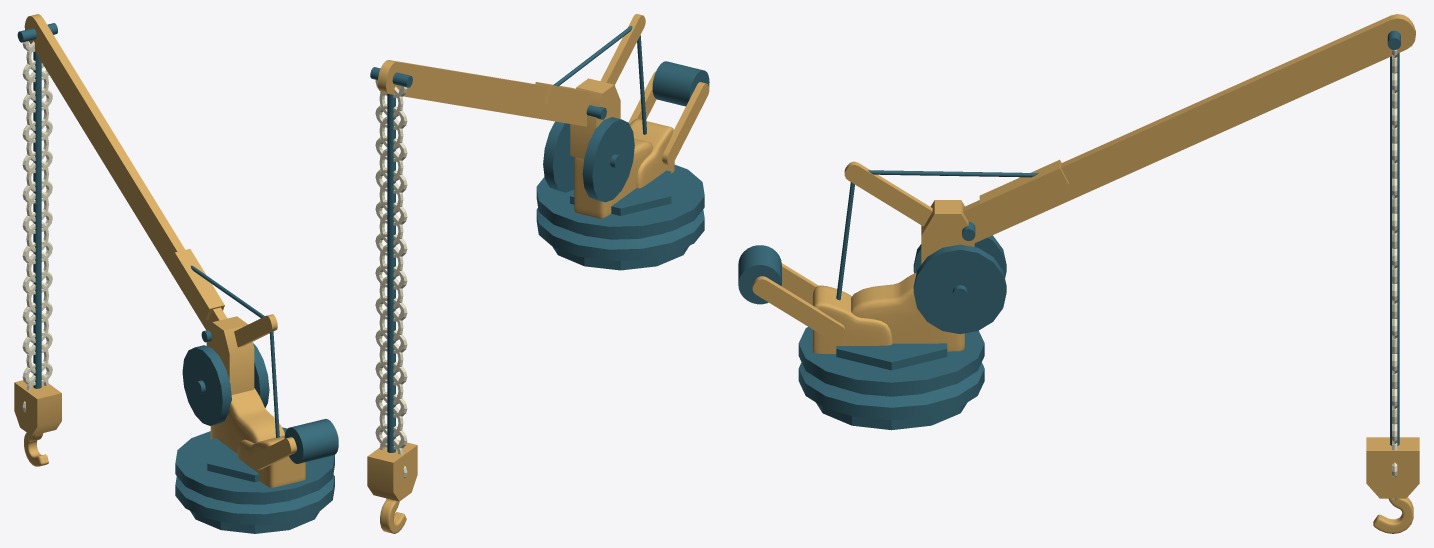
Rendered from deck-crane.glb.
3 views of the same model, side by side, from view 1: azimuth 30°, elevation 25°; view 2: azimuth 150°, elevation 25°; view 3: azimuth 270°, elevation 25° (orthographic). The views are drawn at different scales.
Parts seen in each view (by area): view 1: lift_Shape8_1, lift_Group5_Form63, lift_Shape10_2, lift_Shape10_5, lift_Form53, lift_Form62_1, lift_Form62, lift_Shape9, lift_Group5_Form66, lift_Form53_2, lift_Shape8, lift_mount (+6 smaller); view 2: lift_Shape8_1, lift_Group5_Form63, lift_Shape10_2, lift_Shape10_5, lift_Form62, lift_Form53, lift_Shape10, lift_Form62_1, lift_Shape9, lift_Form53_2, lift_Shape8, lift_Form50_6 (+7 smaller); view 3: lift_Group5_Form63, lift_Shape8_1, lift_Shape10, lift_Form53, lift_Form62, lift_Form53_2, lift_Group5_Form66, lift_Shape8, lift_Form50_3, lift_Form62_1, lift_Form50_5, lift_Shape10_5 (+5 smaller).
Boxes of the visible parts, x1=… form: lift_Shape8_1: x1=175, y1=427, x2=334, y2=524; lift_Group5_Form63: x1=24, y1=14, x2=227, y2=330; lift_Shape10_2: x1=182, y1=345, x2=231, y2=425; lift_Shape10_5: x1=33, y1=52, x2=41, y2=388; lift_Form53: x1=210, y1=388, x2=284, y2=453; lift_Form62_1: x1=206, y1=316, x2=254, y2=394; lift_Form62: x1=14, y1=380, x2=61, y2=435; lift_Shape9: x1=284, y1=419, x2=338, y2=463; lift_Group5_Form66: x1=171, y1=249, x2=224, y2=320; lift_Form53_2: x1=237, y1=435, x2=305, y2=487; lift_Shape8: x1=207, y1=438, x2=259, y2=482; lift_mount: x1=190, y1=511, x2=319, y2=533; lift_Shape8_1: x1=536, y1=165, x2=704, y2=260; lift_Group5_Form63: x1=377, y1=60, x2=592, y2=126; lift_Shape10_2: x1=582, y1=117, x2=634, y2=202; lift_Shape10_5: x1=387, y1=93, x2=395, y2=452; lift_Form62: x1=367, y1=440, x2=417, y2=501; lift_Form53: x1=574, y1=138, x2=652, y2=218; lift_Shape10: x1=543, y1=121, x2=574, y2=192; lift_Form62_1: x1=570, y1=78, x2=620, y2=158; lift_Shape9: x1=652, y1=61, x2=709, y2=106; lift_Form53_2: x1=630, y1=119, x2=674, y2=188; lift_Shape8: x1=570, y1=170, x2=671, y2=215; lift_Form50_6: x1=662, y1=82, x2=709, y2=165; lift_Group5_Form63: x1=963, y1=14, x2=1415, y2=242; lift_Shape8_1: x1=798, y1=327, x2=984, y2=420; lift_Shape10: x1=913, y1=244, x2=1006, y2=334; lift_Form53: x1=851, y1=272, x2=964, y2=351; lift_Form62: x1=1366, y1=437, x2=1419, y2=498; lift_Form53_2: x1=812, y1=285, x2=892, y2=353; lift_Group5_Form66: x1=979, y1=159, x2=1068, y2=220; lift_Shape8: x1=836, y1=343, x2=947, y2=370; lift_Form50_3: x1=752, y1=276, x2=845, y2=341; lift_Form62_1: x1=921, y1=200, x2=974, y2=264; lift_Form50_5: x1=844, y1=161, x2=932, y2=226; lift_Shape10_5: x1=1390, y1=53, x2=1399, y2=445.
Size of the model in its own units: 1.64 by 5.01 by 5.99.
